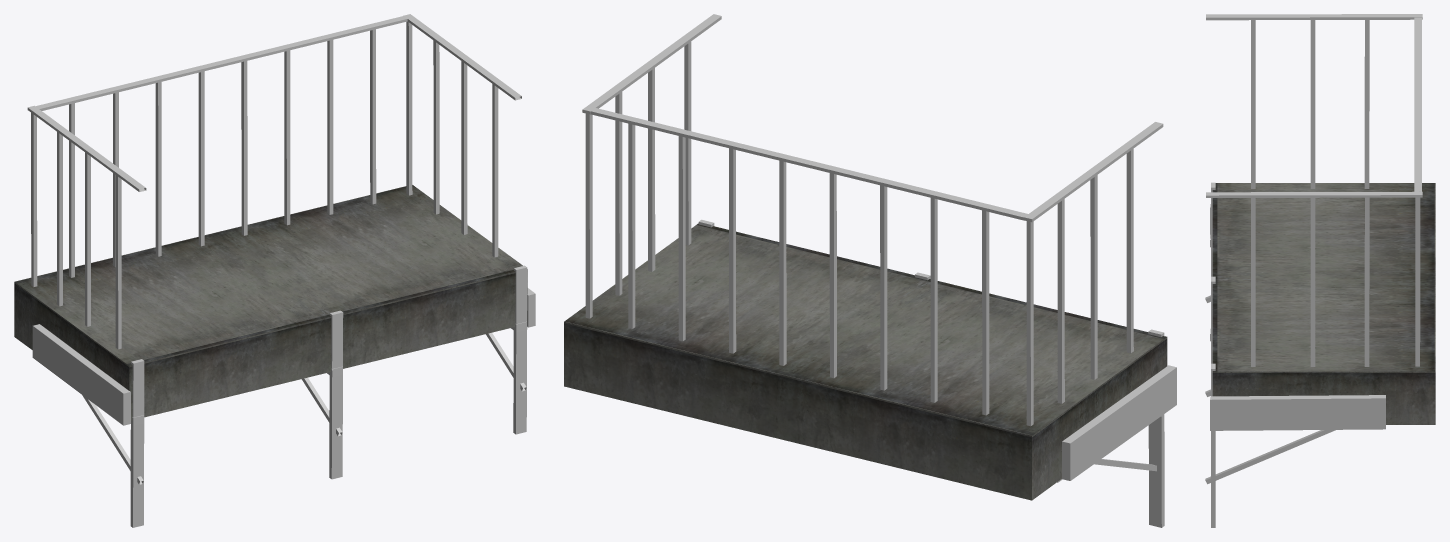
The model's file is Balcony.FBX.
3 renders of one model, left to right at view 1: azimuth 30°, elevation 25°; view 2: azimuth 150°, elevation 25°; view 3: azimuth 270°, elevation 25°, orthographic. The views are drawn at different scales.
Visible parts, largest first — view 1: Balcony; view 2: Balcony; view 3: Balcony.
Part boxes in pixels (x1,y1,x2,y2): Balcony: (14,14,535,527); Balcony: (564,14,1176,527); Balcony: (1205,14,1435,527).
Bounding box in the file's own units: 197 × 155 × 98.21.
